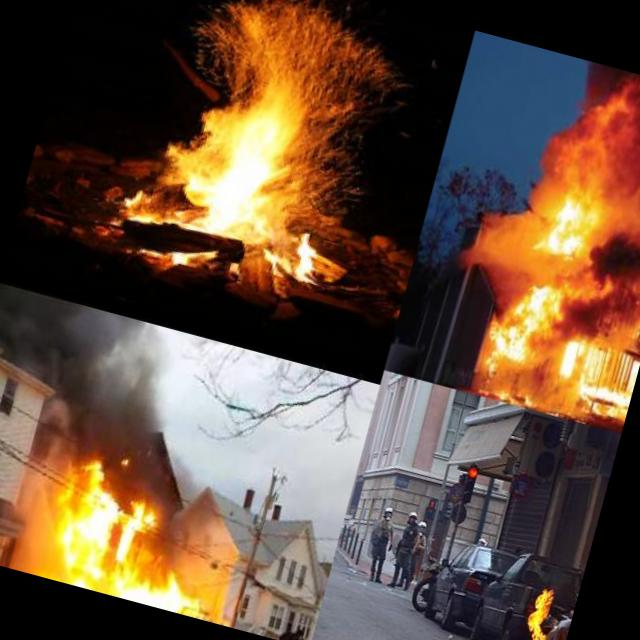fire: (108, 0, 422, 307), (48, 462, 200, 611), (476, 273, 566, 381), (569, 329, 640, 424), (535, 180, 605, 266), (474, 382, 568, 418), (520, 582, 563, 640), (168, 574, 216, 616)
smoke: (30, 302, 182, 480), (535, 55, 638, 194), (585, 74, 640, 295), (460, 236, 605, 298), (3, 442, 80, 556), (476, 165, 552, 254), (0, 283, 70, 376), (591, 282, 640, 341), (552, 290, 598, 350)
